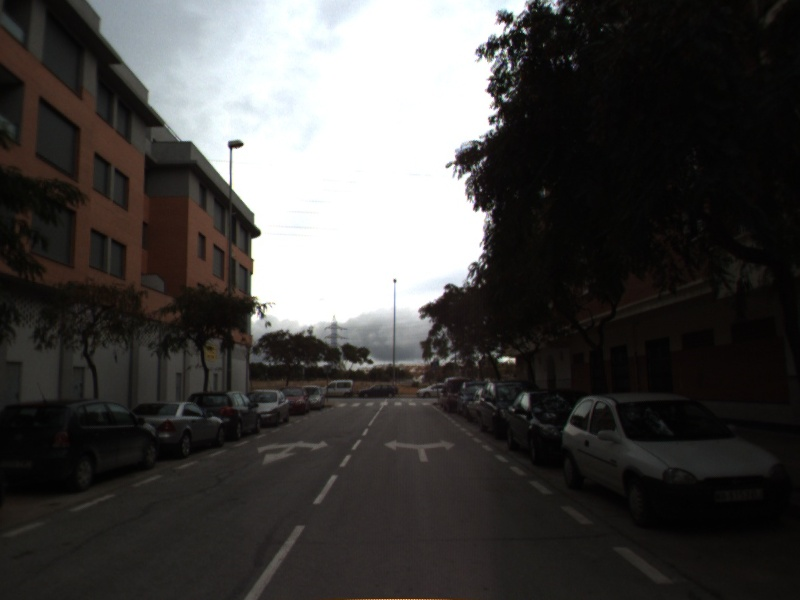LEFT_RIGHT: (382, 437, 457, 464)
